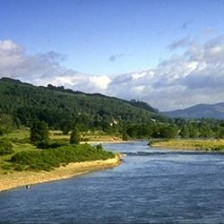neutral: (1, 6, 224, 223)
